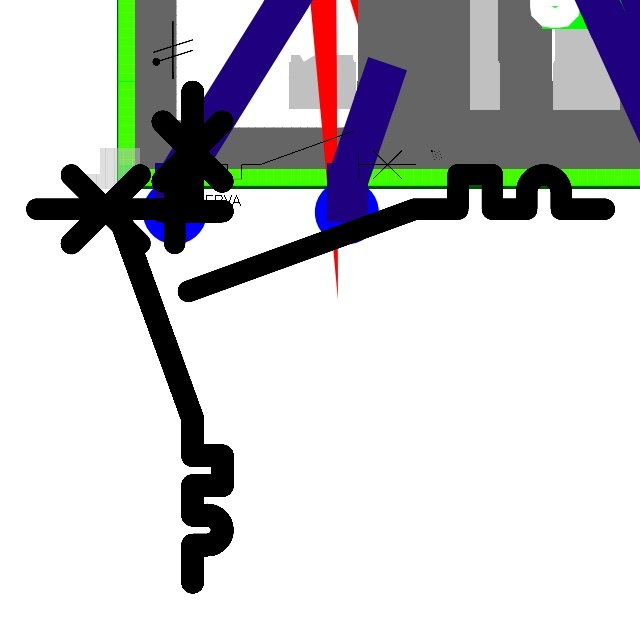interruptor_termomagnetico: (22, 160, 619, 306), (109, 79, 235, 595), (175, 125, 422, 185)
